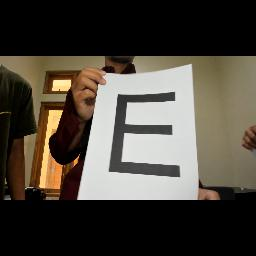e: (106, 89, 184, 181)
